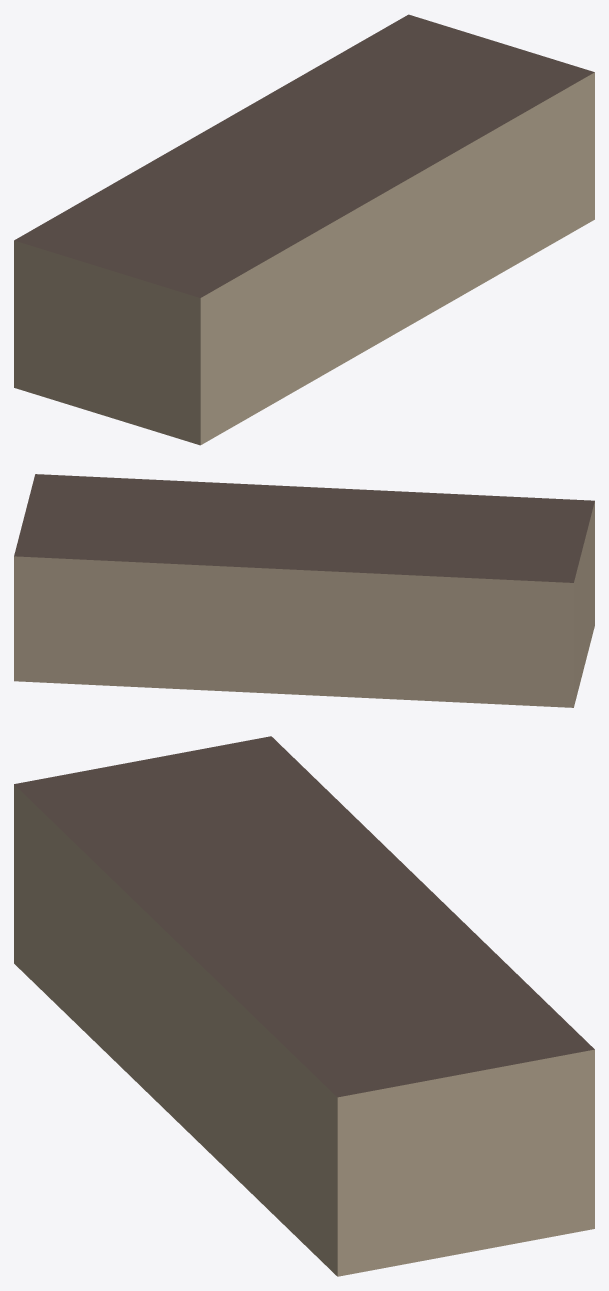
3 views of the same model, one above another, from view 1: azimuth 30°, elevation 25°; view 2: azimuth 150°, elevation 25°; view 3: azimuth 270°, elevation 25° (orthographic). The views are drawn at different scales.
Visible parts, largest first — view 1: HP-w369342480; view 2: HP-w369342480; view 3: HP-w369342480.
Boxes of the visible parts, <box> form: HP-w369342480: <box>14,14,594,445</box>; HP-w369342480: <box>14,474,594,707</box>; HP-w369342480: <box>14,736,594,1276</box>.
Size of the model in its own units: 38.88 by 9 by 26.42.
